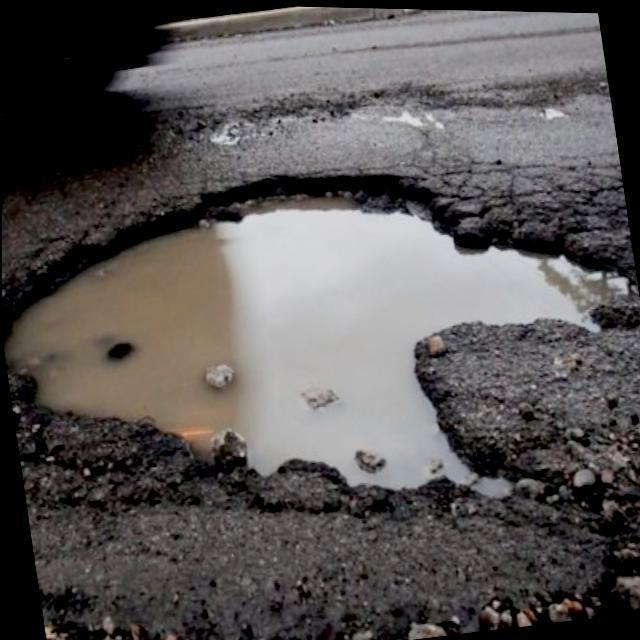Pothole: (0, 168, 637, 512)
